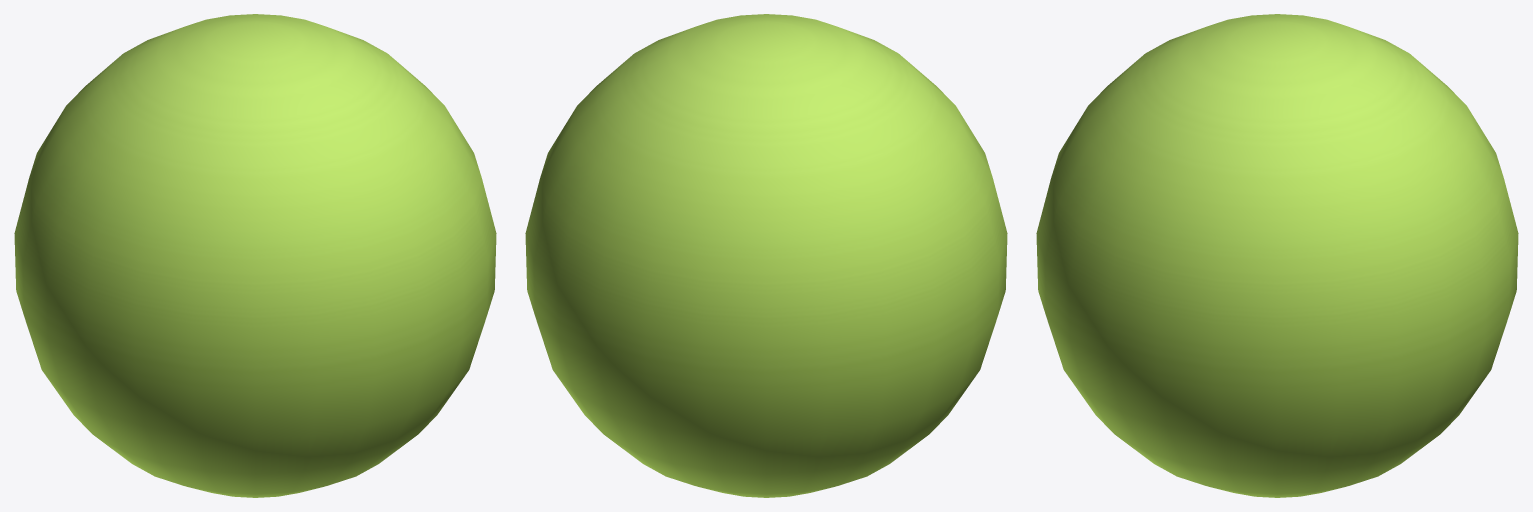
The model's file is ball-green.fbx.
The picture shows the model from 3 angles, left to right: view 1: azimuth 30°, elevation 25°; view 2: azimuth 150°, elevation 25°; view 3: azimuth 270°, elevation 25°; orthographic projection.
Visible parts, largest first — view 1: ball_green; view 2: ball_green; view 3: ball_green.
Boxes of the visible parts, x1,y1,x2,y2 form: ball_green: (14,14,496,497); ball_green: (525,14,1007,497); ball_green: (1036,14,1518,497).
Size of the model in its own units: 6.99 by 6.98 by 6.99.
